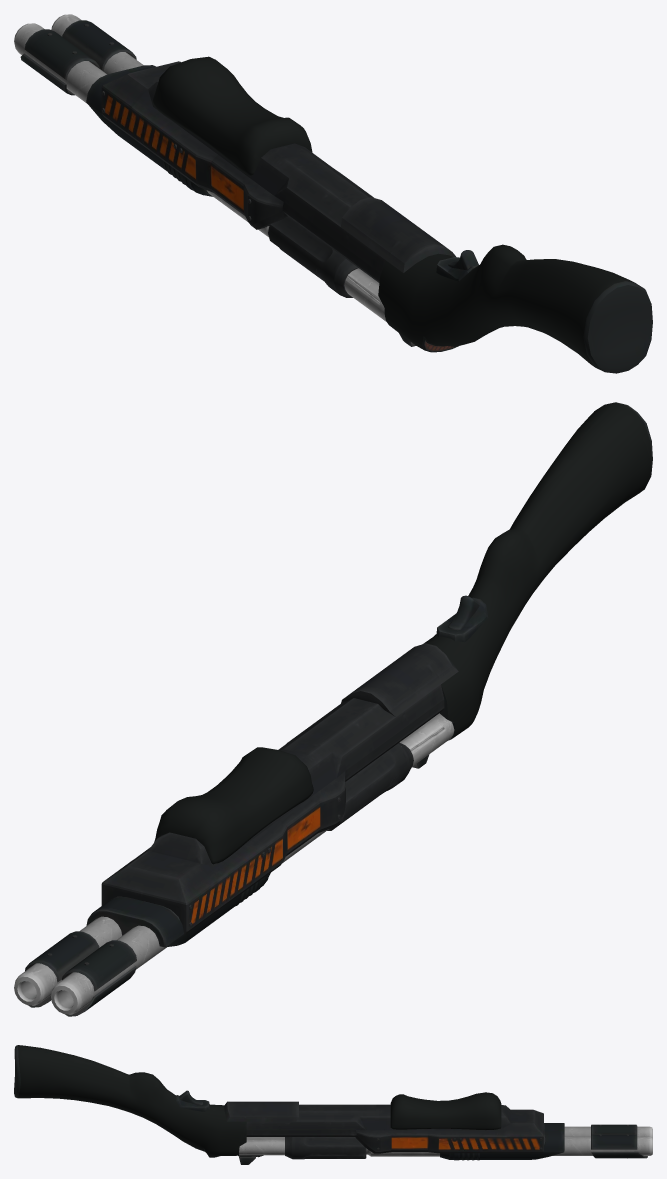
The picture shows the model from 3 angles, top to bottom: view 1: azimuth 30°, elevation 25°; view 2: azimuth 150°, elevation 25°; view 3: azimuth 270°, elevation 25°; orthographic projection. The views are drawn at different scales.
Parts seen in each view (by area): view 1: shotgun_01_Material #187_0; view 2: shotgun_01_Material #187_0; view 3: shotgun_01_Material #187_0.
Part boxes in pixels (left/top/right/bottom): shotgun_01_Material #187_0: left=14, top=14, right=652, bottom=373; shotgun_01_Material #187_0: left=14, top=402, right=652, bottom=1016; shotgun_01_Material #187_0: left=14, top=1045, right=652, bottom=1164.
Size of the model in its own units: 0.0865 by 0.191 by 0.95.
3 materials, 3 textured.
